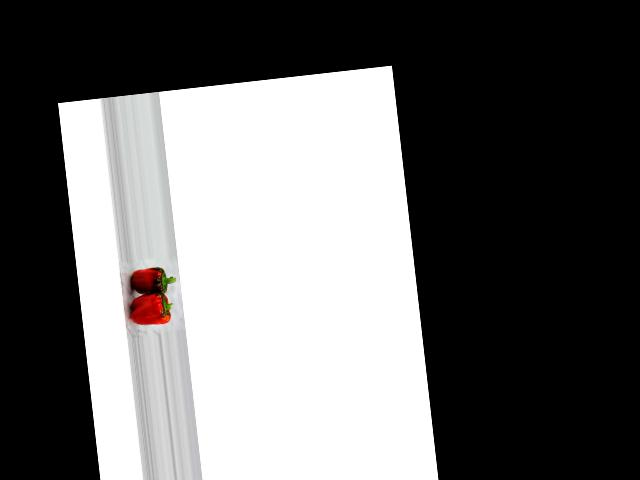bell_pepper: (128, 291, 177, 332)
